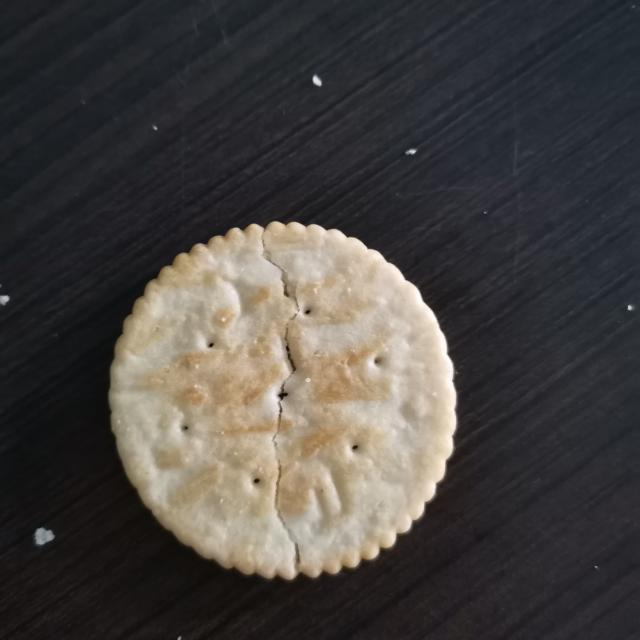Fracture: (241, 206, 322, 581)
